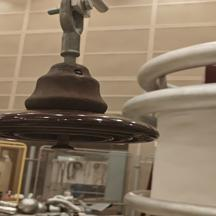insulator: (0, 54, 163, 157)
